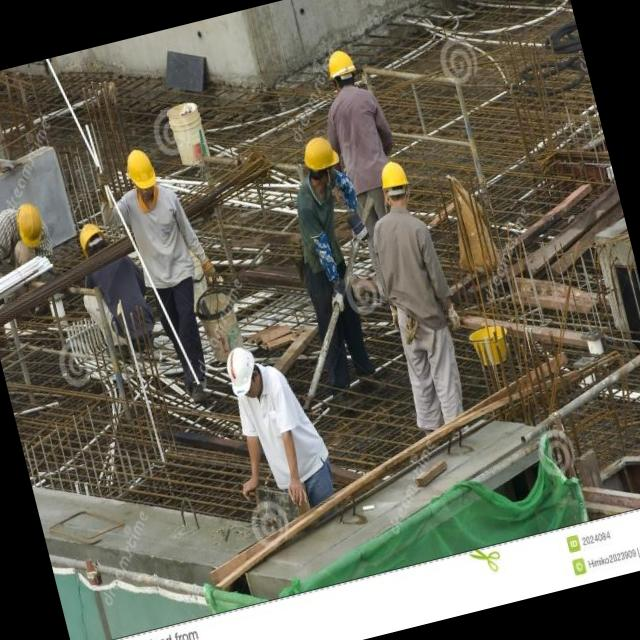Helmet: (220, 335, 266, 405), (293, 122, 343, 182), (315, 40, 368, 85), (374, 154, 422, 202), (72, 218, 116, 270), (122, 144, 164, 193), (13, 195, 52, 247)
